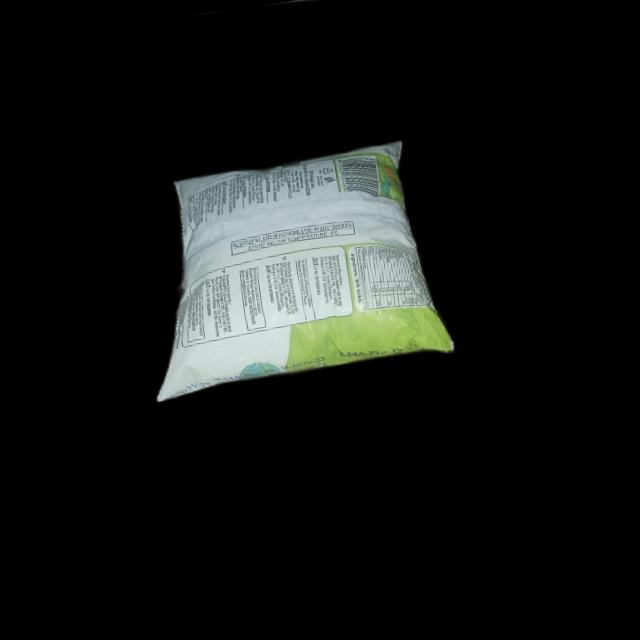Gokul Milk 500ml: (123, 139, 454, 395)
